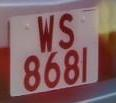1: (79, 42, 90, 90)
6: (42, 50, 63, 92)
8: (20, 50, 45, 95), (62, 48, 81, 89)
S: (56, 8, 79, 55)
W: (36, 9, 59, 57)
